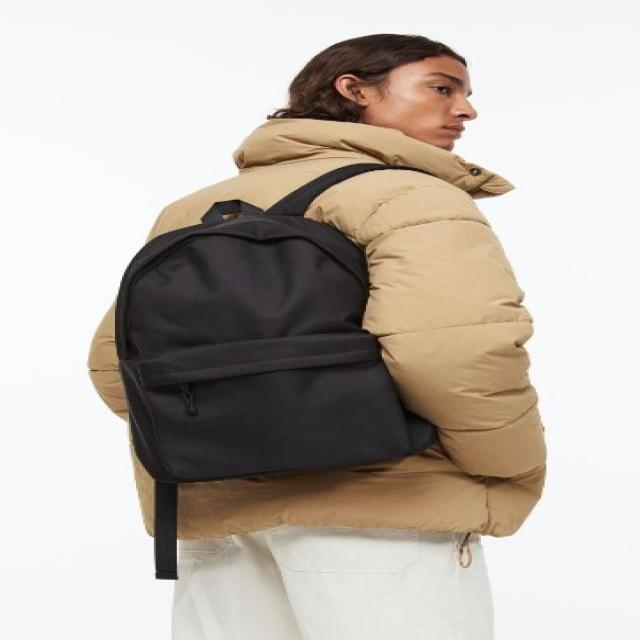handbag: (113, 213, 414, 485)
